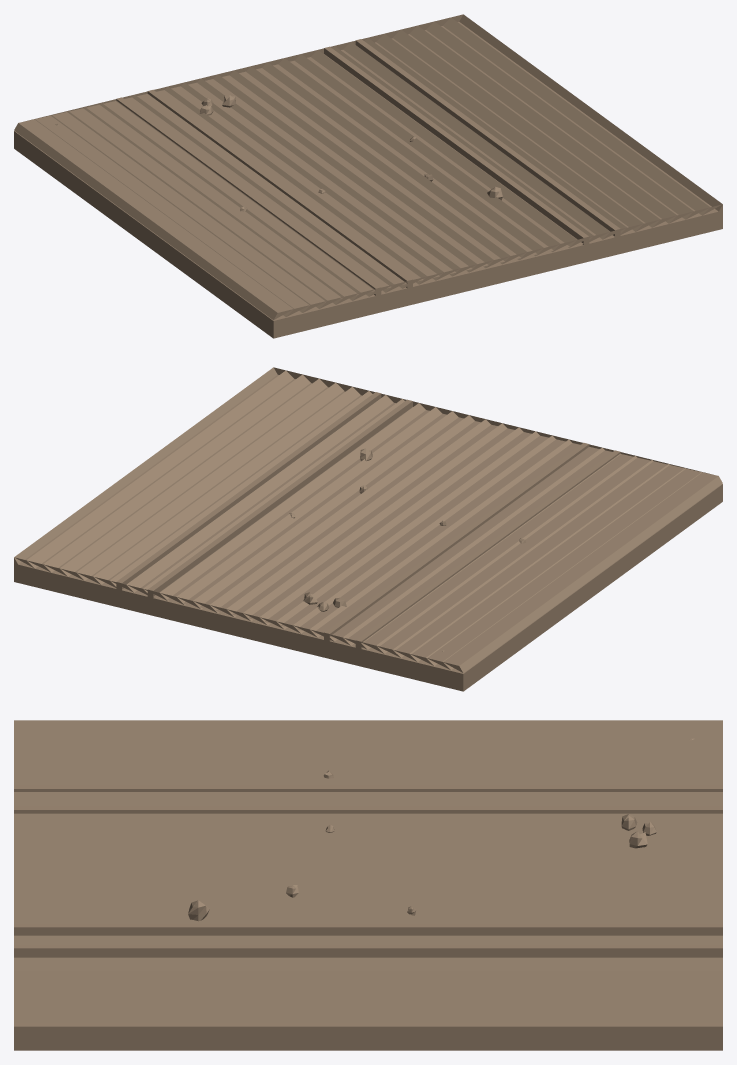
File: arable-fields-and-farm-machinery-field-tile-drilled-7081fcb8__16872.glb
The picture shows the model from 3 angles, top to bottom: view 1: azimuth 30°, elevation 25°; view 2: azimuth 150°, elevation 25°; view 3: azimuth 270°, elevation 25°; orthographic projection. The views are drawn at different scales.
Visible parts, largest first — view 1: field-tile-drilled; view 2: field-tile-drilled; view 3: field-tile-drilled.
Part boxes in pixels (x1=…): field-tile-drilled: x1=14, y1=14, x2=722, y2=338; field-tile-drilled: x1=14, y1=367, x2=722, y2=691; field-tile-drilled: x1=14, y1=720, x2=722, y2=1050.
Bounding box in the file's own units: 8 × 0.5547 × 8.
